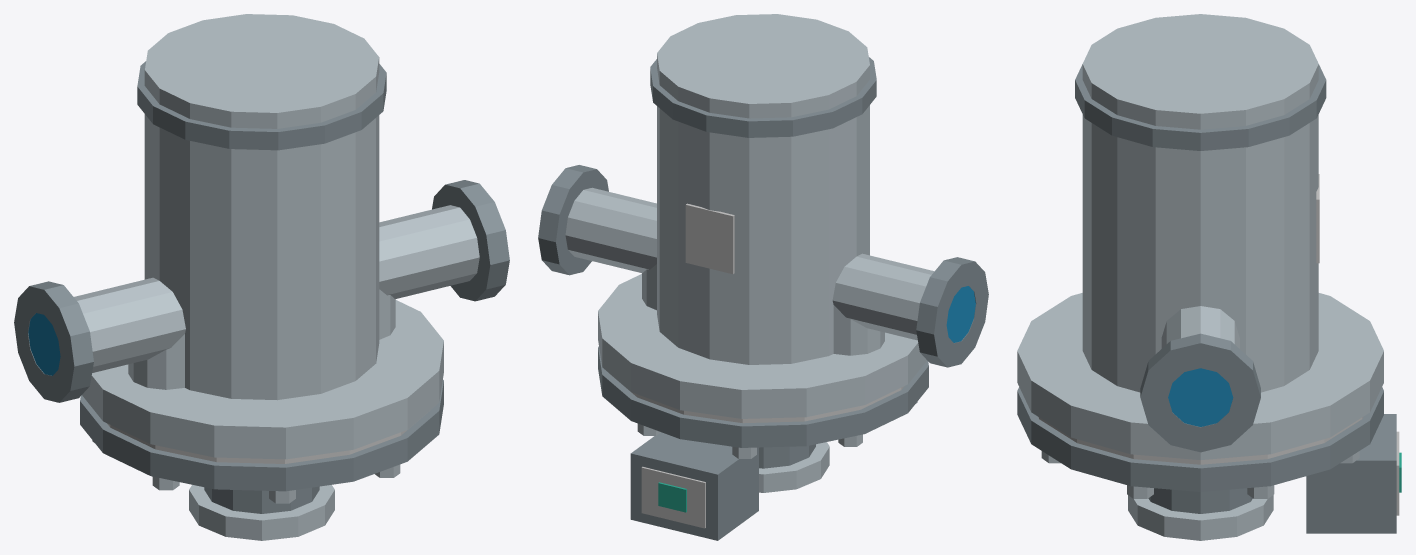
Rendered from body.obj.
3 views of the same model, side by side, from view 1: azimuth 30°, elevation 25°; view 2: azimuth 150°, elevation 25°; view 3: azimuth 270°, elevation 25° (orthographic). The views are drawn at different scales.
Bounding box in the file's own units: 1 × 0.98 × 0.765.
